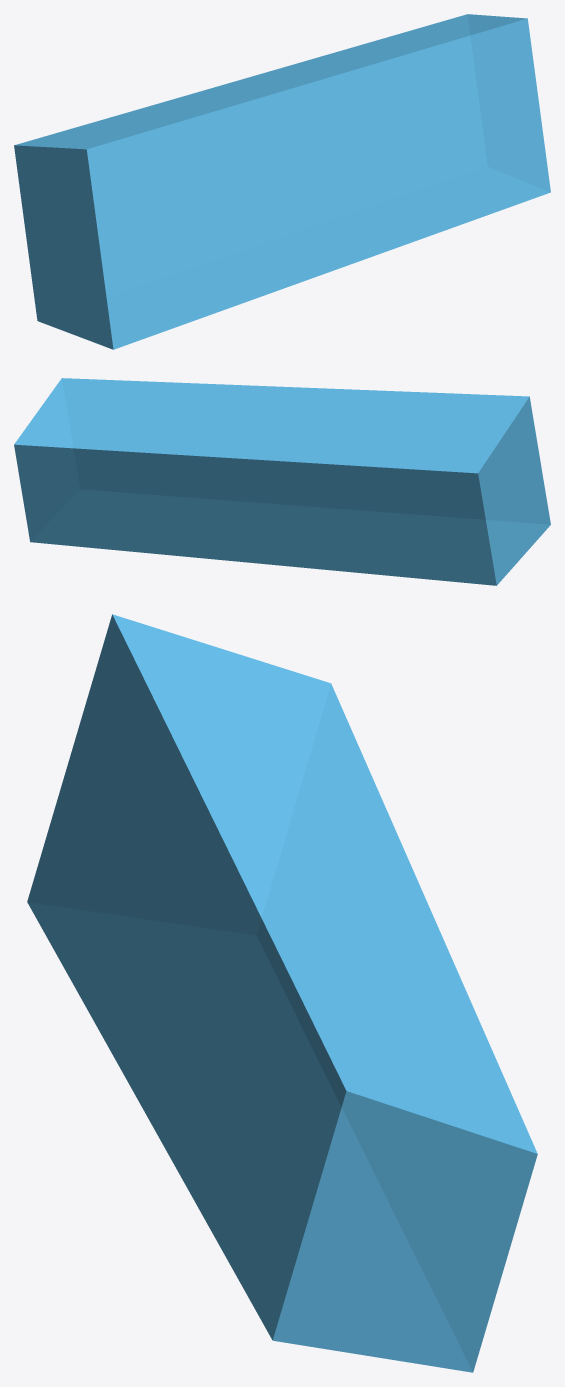
File: Event_420604493_HErechit_3.fbx
3 views of the same model, one above another, from view 1: azimuth 30°, elevation 25°; view 2: azimuth 150°, elevation 25°; view 3: azimuth 270°, elevation 25° (orthographic). The views are drawn at different scales.
Visible parts, largest first — view 1: Model; view 2: Model; view 3: Model.
Boxes of the visible parts, x1,y1,x2,y2 form: Model: (14, 14, 550, 349); Model: (14, 378, 550, 585); Model: (27, 614, 537, 1372).
Bounding box in the file's own units: 1.56 × 0.6493 × 0.837.
